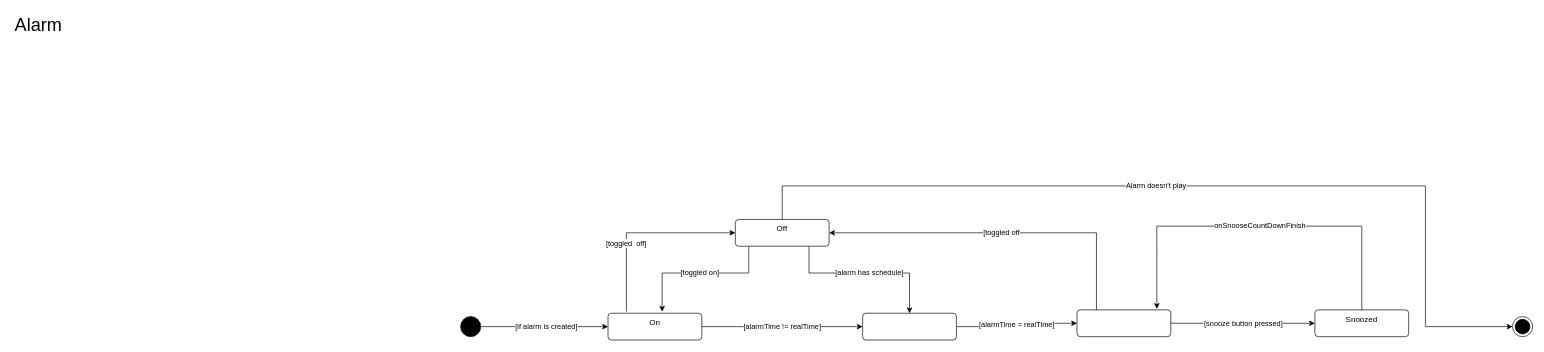
The diagram is 1544 pixels wide and 352 high, and some of its shapes have lost their labels. Each missing label, with the box of its shape:
On Stand By: (862, 313, 956, 340)
Playing: (1076, 309, 1171, 337)
